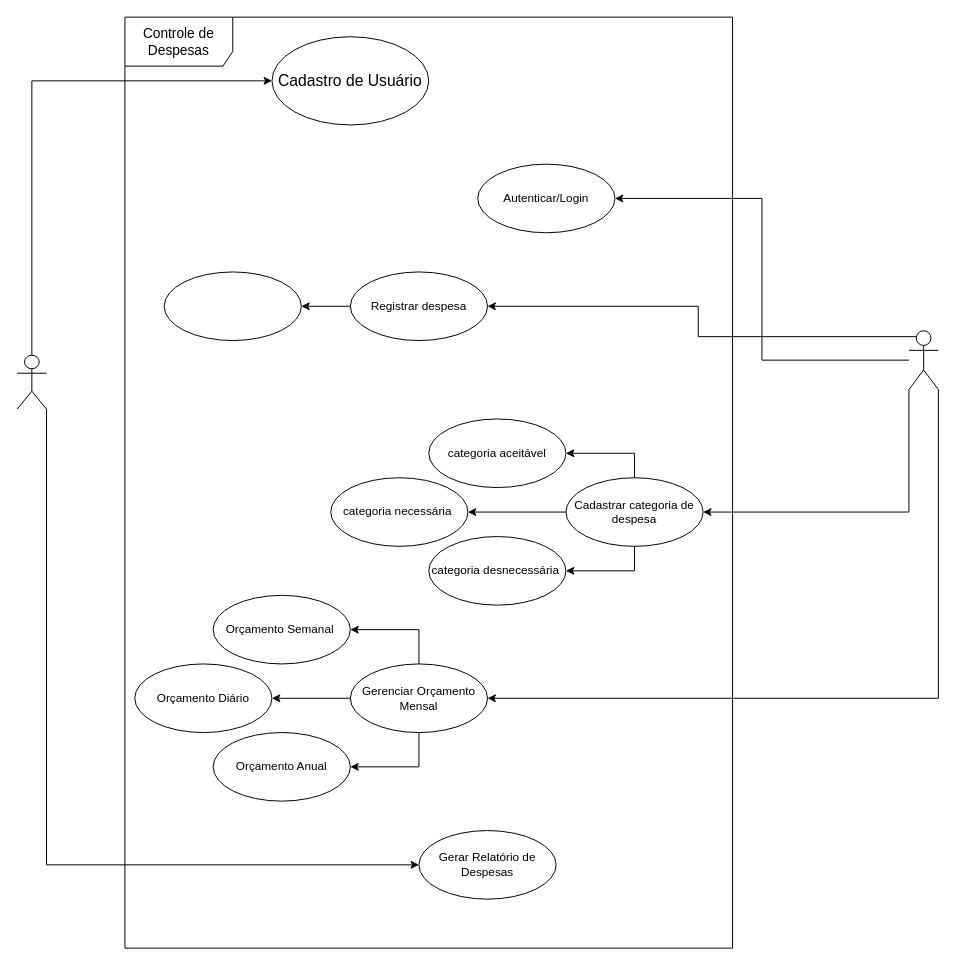
The diagram is 963 pixels wide and 965 high, and some of its shapes have lost their labels. Here are the shapes that lost their labels. From the top down, the centre of each, then its label:
point (232, 306): Registrar motivo do gasto
point (923, 360): Usuário
point (31, 381): ADM
